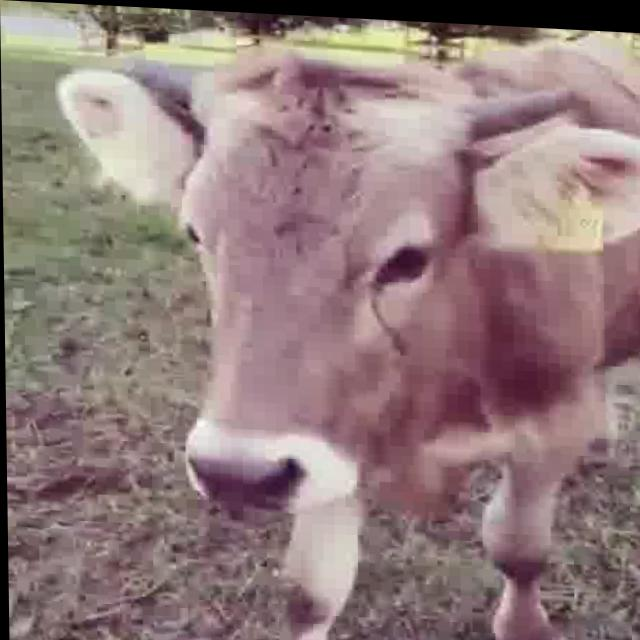cowFace: (60, 36, 640, 538)
